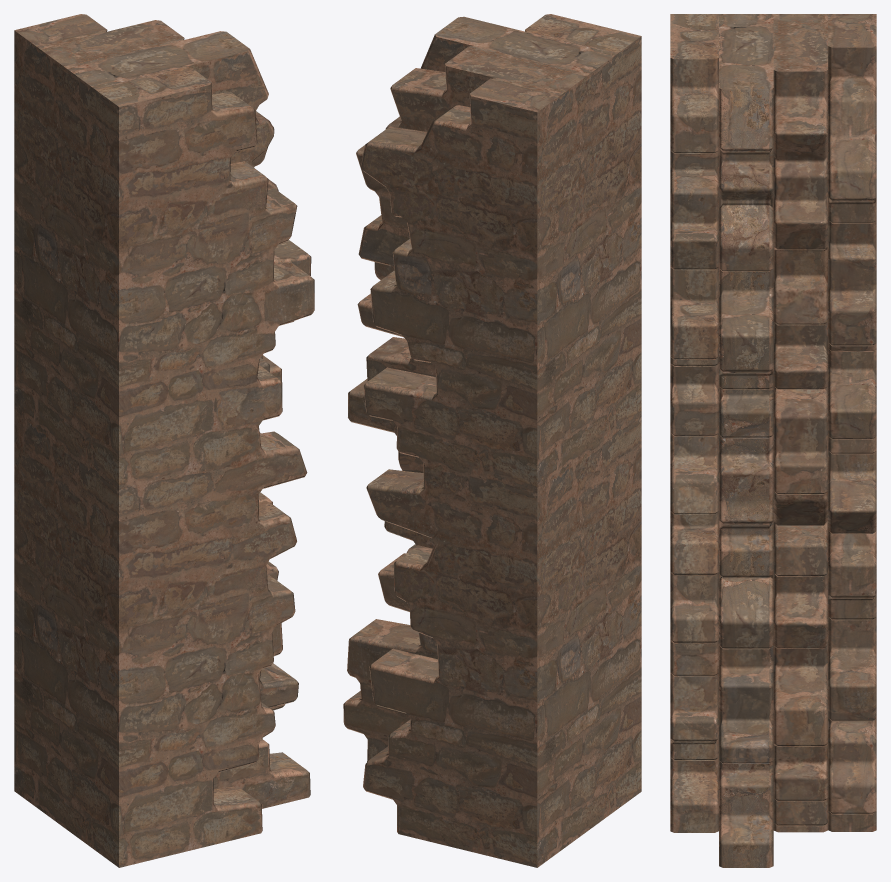
The model's file is Wall_BrokenSide.fbx.
3 renders of one model, left to right at view 1: azimuth 30°, elevation 25°; view 2: azimuth 150°, elevation 25°; view 3: azimuth 270°, elevation 25°, orthographic.
Visible parts, largest first — view 1: Wall_BrokenSide_LOD0; view 2: Wall_BrokenSide_LOD0; view 3: Wall_BrokenSide_LOD0.
Part boxes in pixels (box(x1,y1,x2,y2)): Wall_BrokenSide_LOD0: box(14, 14, 314, 867); Wall_BrokenSide_LOD0: box(343, 14, 641, 867); Wall_BrokenSide_LOD0: box(670, 14, 876, 867).
Size of what is drawn, in the model's own units: 122 by 400 by 100.
